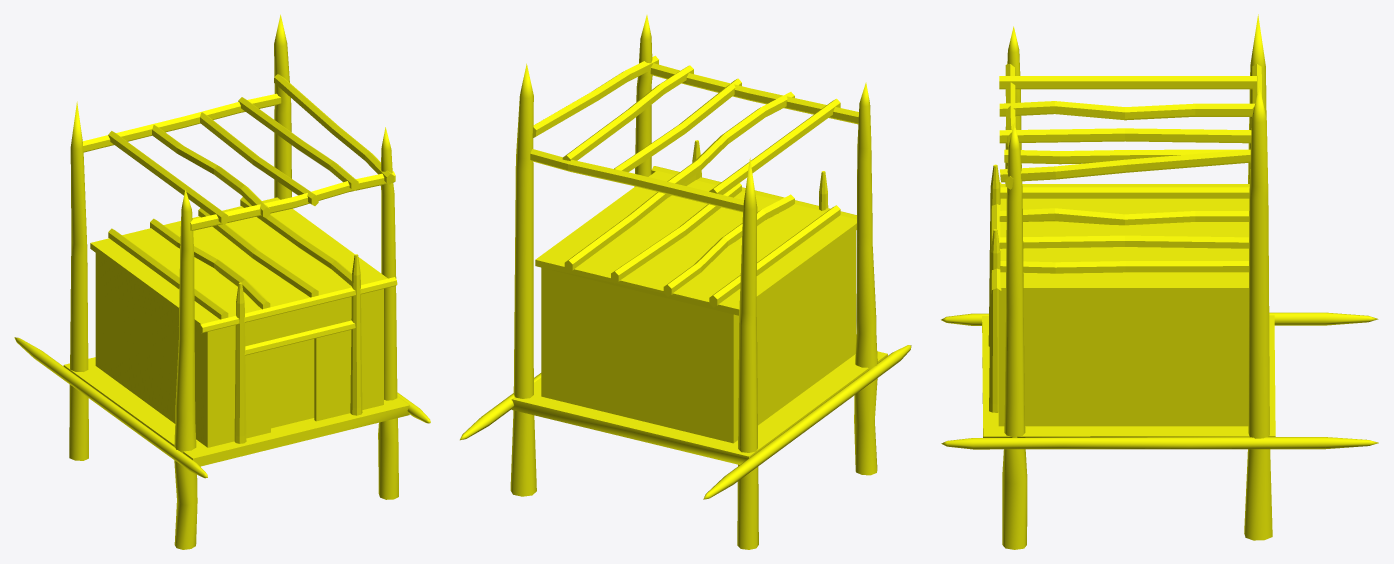
Rendered from gaint_builda_04.glb.
3 views of the same model, side by side, from view 1: azimuth 30°, elevation 25°; view 2: azimuth 150°, elevation 25°; view 3: azimuth 270°, elevation 25° (orthographic). The views are drawn at different scales.
Parts seen in each view (by area): view 1: objObject02, Object02, Object, Object01; view 2: objObject02, Object, Object02, Object01; view 3: objObject02, Object02, Object, Object01.
Part boxes in pixels (x1,y1,x2,y2): objObject02: (90,197,387,447); Object02: (83,74,397,443); Object: (14,14,430,549); Object01: (63,357,409,466); objObject02: (535,171,856,443); Object: (460,15,911,549); Object02: (530,55,858,307); Object01: (511,351,887,464); objObject02: (998,184,1249,426); Object02: (988,64,1261,412); Object: (941,14,1378,549); Object01: (982,315,1275,437).
Bounding box in the file's own units: 8.69 × 14.33 × 12.42.
Materials: 4 (4 with a texture image).
